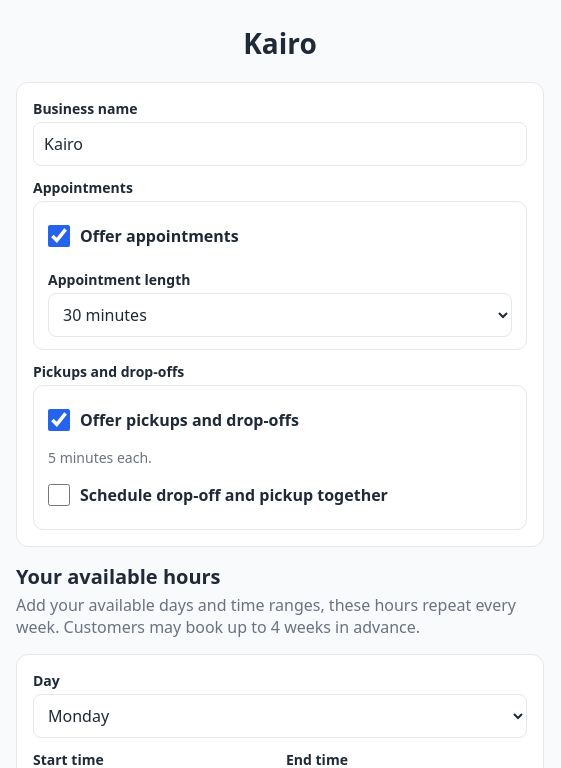
Test case: Business page › rejects an end time before the start time
Step 1. Select "Monday" in the dropdown labelled "Day" → (280, 716), box x1=33 y1=694 x2=527 y2=738
(page scrolled)
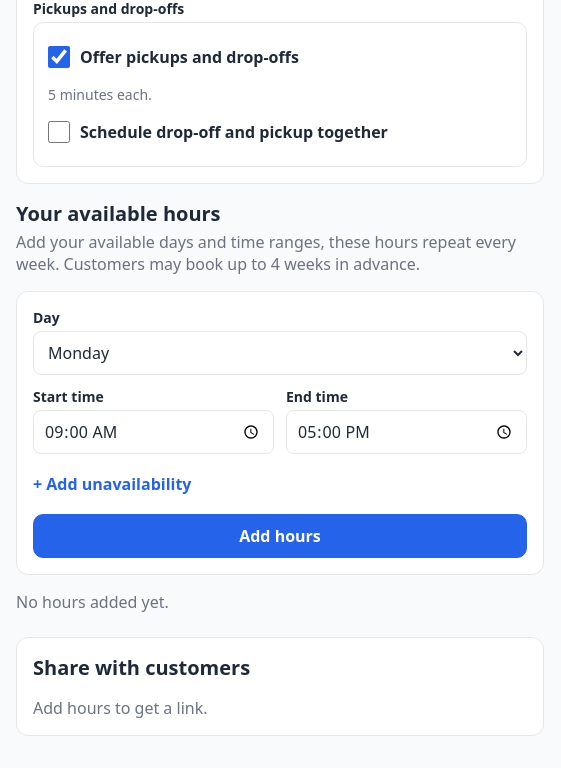
Step 2. Replace the text in the time field labelled "Start time" with "15:00" → (154, 432), box x1=33 y1=410 x2=274 y2=454
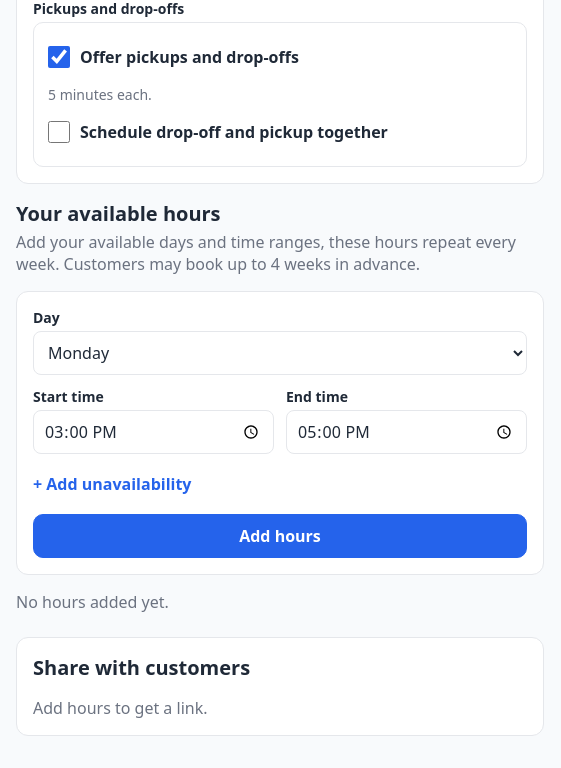
Step 3. Replace the text in the time field labelled "End time" with "09:00" → (406, 432), box x1=286 y1=410 x2=527 y2=454
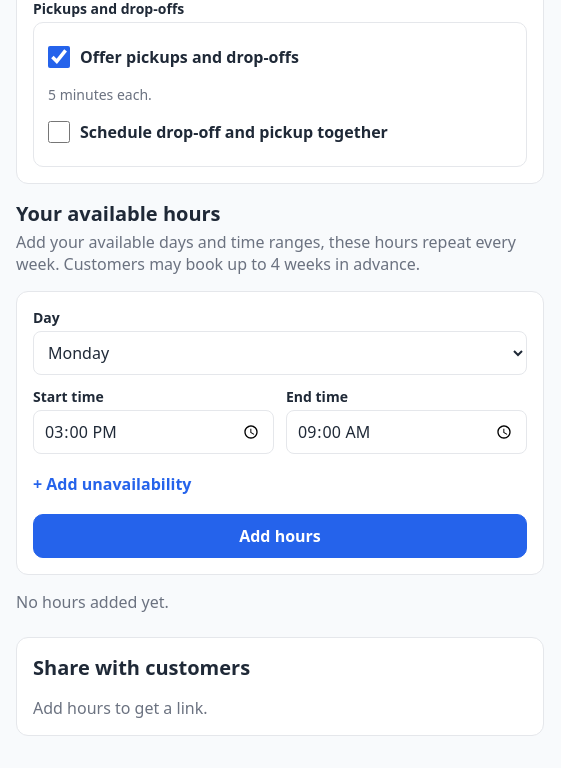
Step 4. Click the button "Add hours" → (280, 536), box x1=33 y1=514 x2=527 y2=558
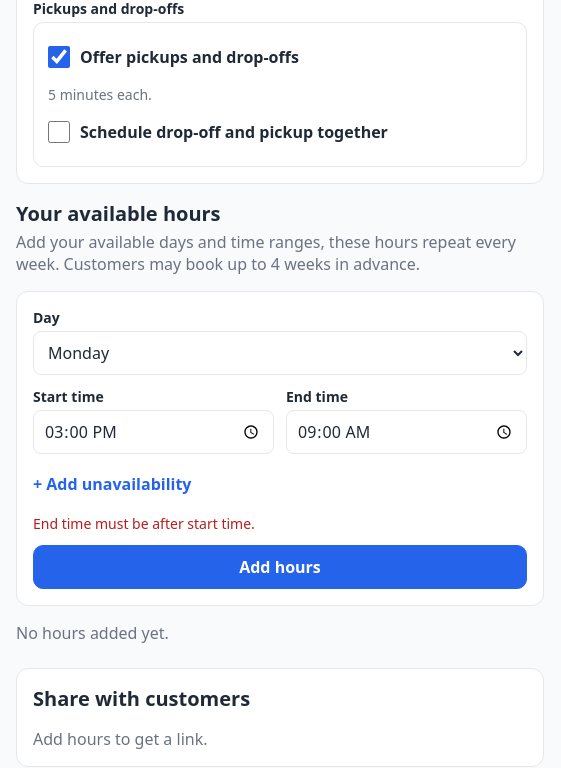
Expected: the text "No hours added yet." is shown, x1=16 y1=622 x2=169 y2=644
Result: the message reads "End time must be after start time." at x1=33 y1=514 x2=255 y2=533
